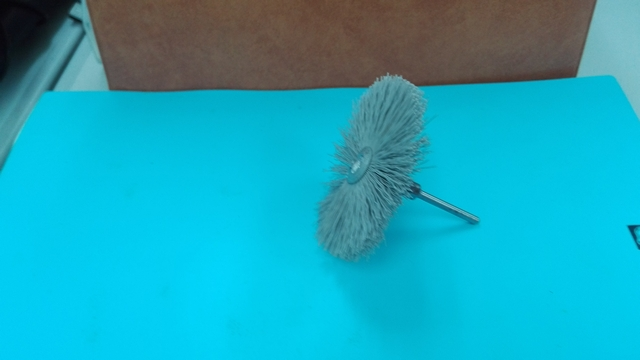TOOL: (217, 54, 520, 299)
